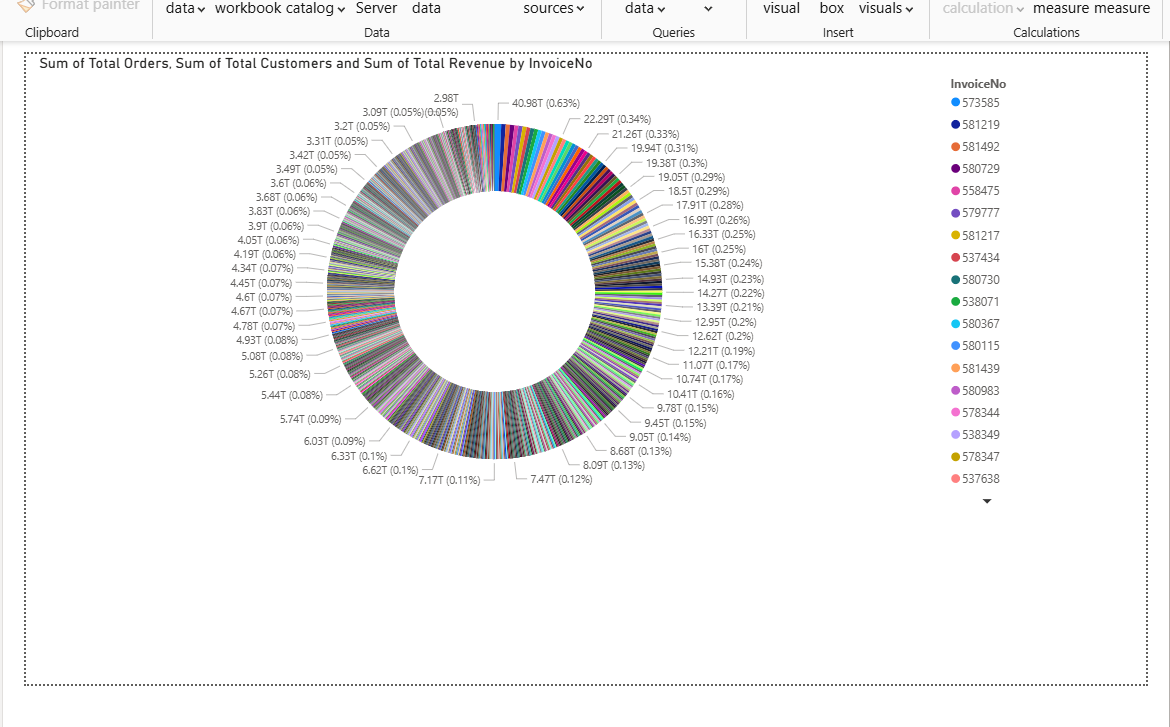

Layout of this report page (visuals, bound fields, positions):
{"tool":"powerbi","page":{"name":"Page 5","canvas":[1280,720],"ordinal":4},"visuals":[{"type":"donutChart","fields":{"Y":["Sum(data.Total Orders)","Sum(data.Total Customers)","Sum(data.Total Revenue)"],"Category":["data.InvoiceNo"]},"box":[9.6,0,1133.5,524.2],"z":0}]}

Visuals, with their boxes on the page's 1280x720 design canvas (x1, y1, x2, y2). These are canvas units, not pixel positions in the 1170x727 screenshot, which may show the page scaled, cropped or inside an application window:
donutChart - Sum(data.Total Orders) x Sum(data.Total Customers): (x1=10, y1=0, x2=1143, y2=524)
